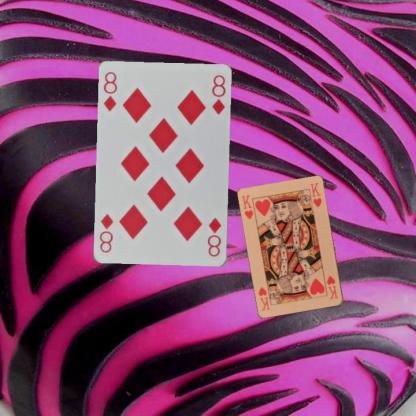8d: (204, 215, 223, 258), (101, 69, 119, 114)
Kh: (239, 192, 255, 221), (324, 274, 339, 300)
